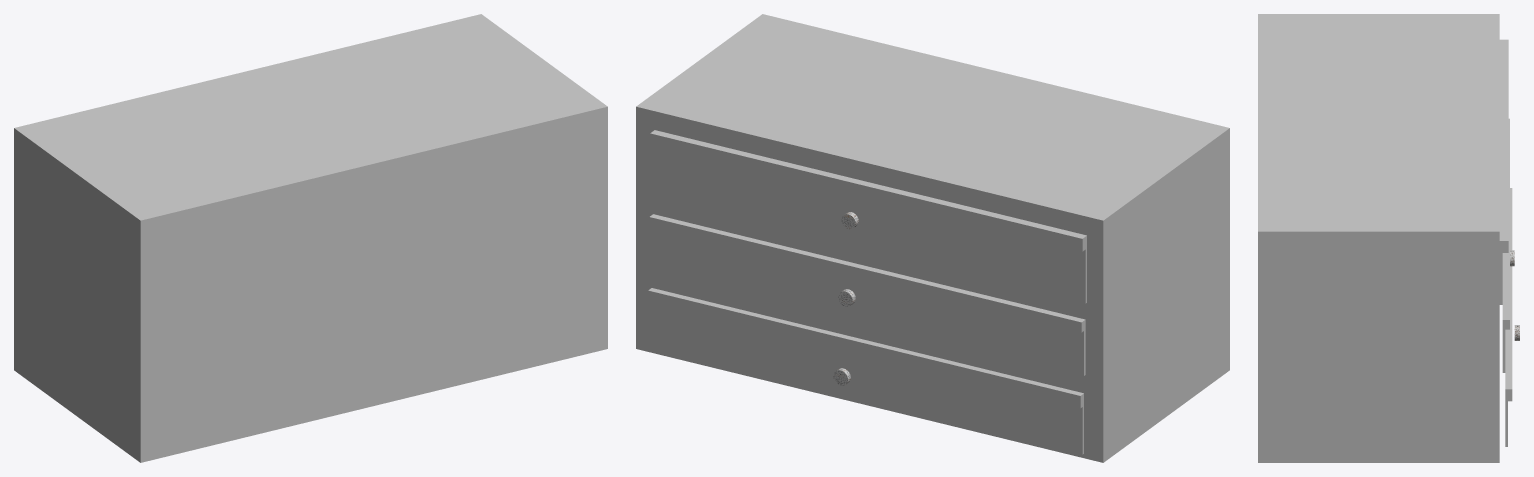
The picture shows the model from 3 angles, left to right: view 1: azimuth 30°, elevation 25°; view 2: azimuth 150°, elevation 25°; view 3: azimuth 270°, elevation 25°; orthographic projection. The views are drawn at different scales.
Parts seen in each view (by area): view 1: mesh1_mesh1-geometry; view 2: mesh1_mesh1-geometry, mesh4_mesh4-geometry, mesh2_mesh2-geometry; view 3: mesh1_mesh1-geometry, mesh4_mesh4-geometry, mesh2_mesh2-geometry.
Part boxes in pixels (x1,y1,x2,y2): mesh1_mesh1-geometry: (14,14,607,462); mesh1_mesh1-geometry: (636,14,1229,462); mesh4_mesh4-geometry: (648,288,1083,454); mesh2_mesh2-geometry: (649,214,1085,375); mesh1_mesh1-geometry: (1258,14,1508,462); mesh4_mesh4-geometry: (1505,188,1512,446); mesh2_mesh2-geometry: (1502,118,1509,372).
Bounding box in the file's own units: 0.8154 × 0.404 × 0.4147.
